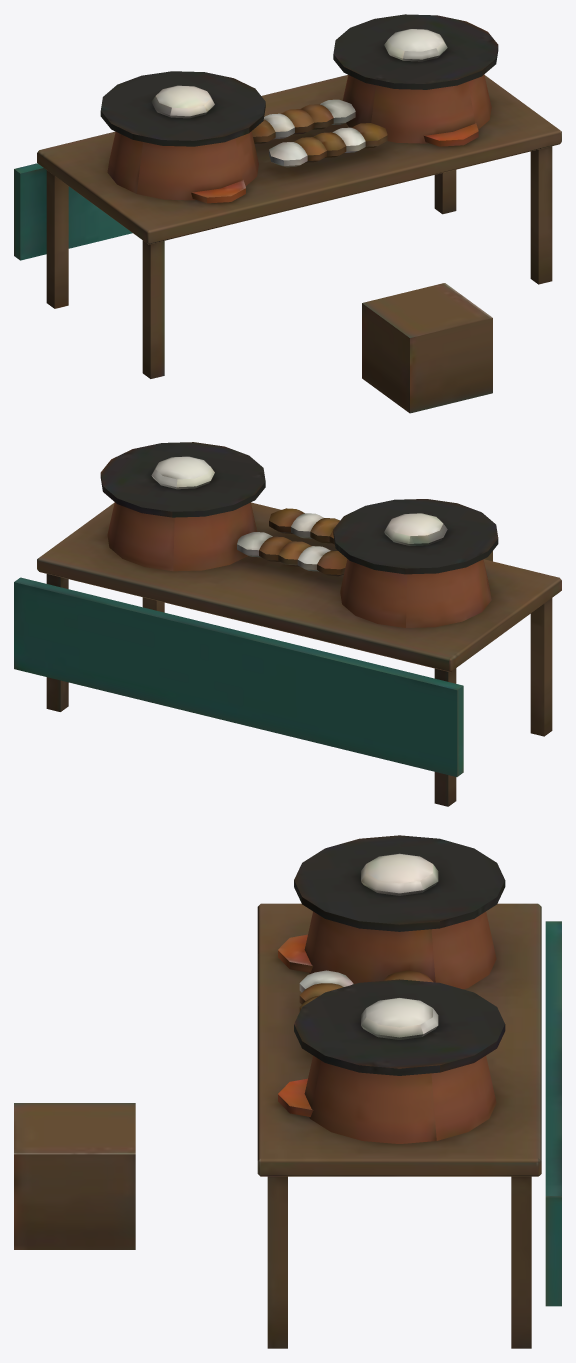
File: pitha_stall.glb
The picture shows the model from 3 angles, top to bottom: view 1: azimuth 30°, elevation 25°; view 2: azimuth 150°, elevation 25°; view 3: azimuth 270°, elevation 25°; orthographic projection. The views are drawn at different scales.
Parts seen in each view (by area): view 1: body; view 2: body; view 3: body.
Boxes of the visible parts, x1,y1,x2,y2 form: body: [14, 14, 561, 413]; body: [14, 442, 561, 806]; body: [14, 835, 561, 1348].
Size of the model in its own units: 1.6 by 0.792 by 1.35.
1 material, 1 textured.
